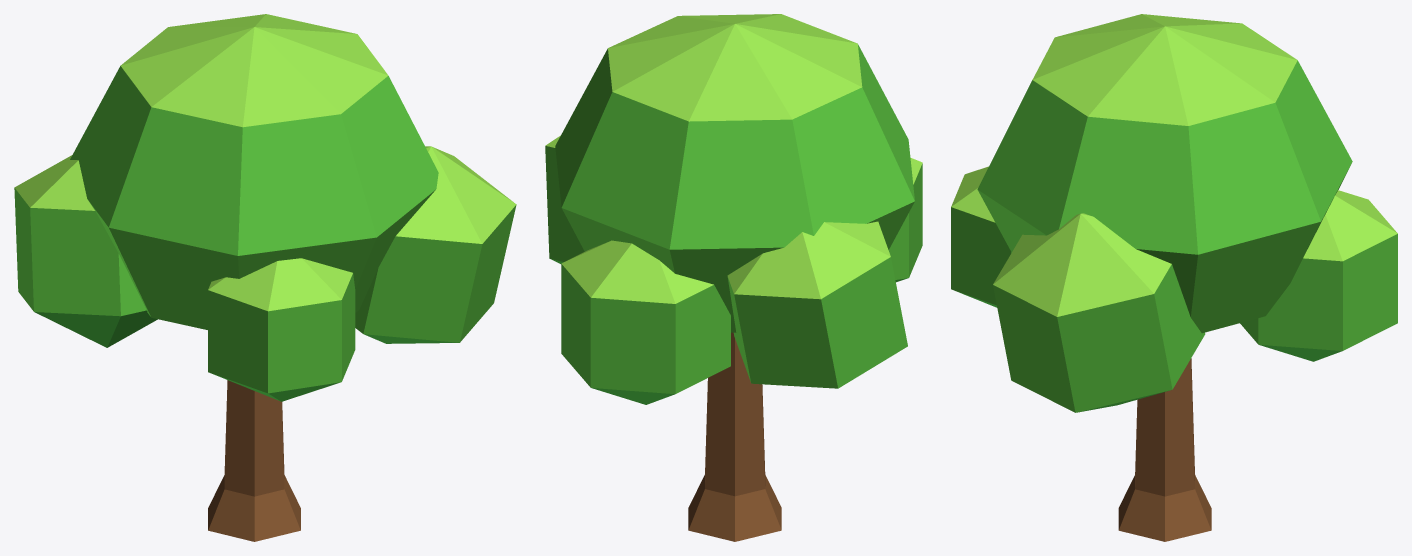
File: tree_round.glb
3 views of the same model, side by side, from view 1: azimuth 30°, elevation 25°; view 2: azimuth 150°, elevation 25°; view 3: azimuth 270°, elevation 25° (orthographic).
Visible parts, largest first — view 1: tree_round; view 2: tree_round; view 3: tree_round.
Boxes of the visible parts, bbox=[...] form: tree_round: bbox=[14, 14, 516, 541]; tree_round: bbox=[545, 14, 922, 541]; tree_round: bbox=[951, 14, 1397, 541].
Size of the model in its own units: 0.6017 by 0.7 by 0.5751.
